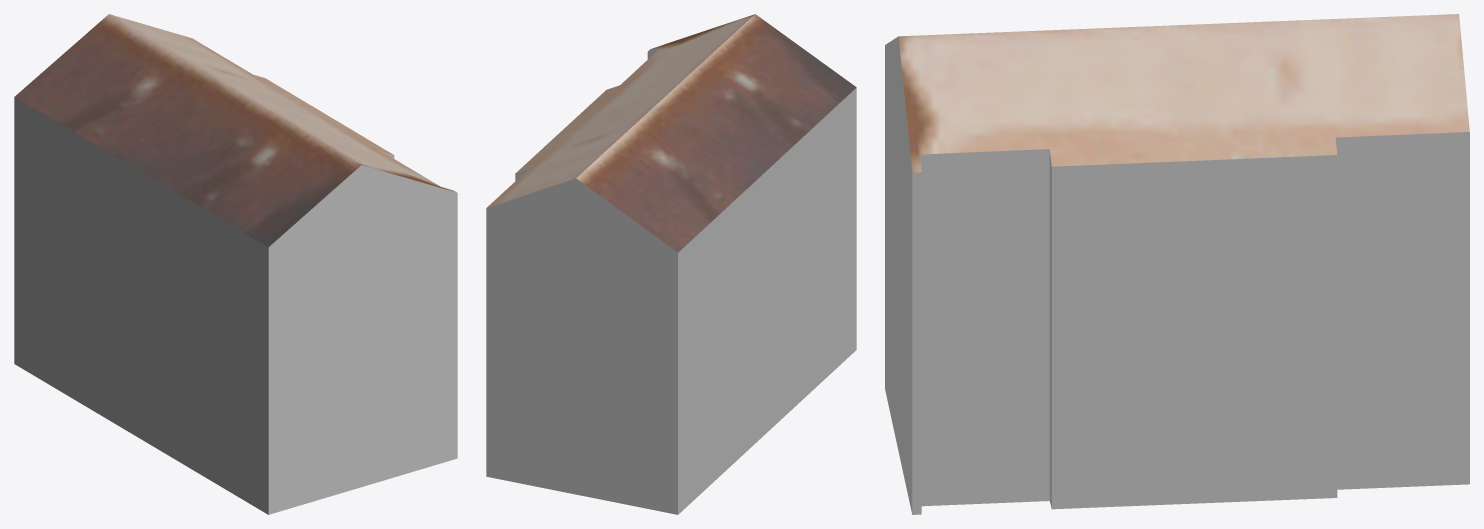
The model's file is DEBW_0010007Txiv.gltf.
3 renders of one model, left to right at view 1: azimuth 30°, elevation 25°; view 2: azimuth 150°, elevation 25°; view 3: azimuth 270°, elevation 25°, orthographic. The views are drawn at different scales.
Visible parts, largest first — view 1: Z_UP; view 2: Z_UP; view 3: Z_UP.
Part boxes in pixels (x1=…): Z_UP: x1=14, y1=14, x2=457, y2=514; Z_UP: x1=486, y1=14, x2=856, y2=514; Z_UP: x1=885, y1=14, x2=1469, y2=514.
Size of the model in its own units: 11.47 by 15.01 by 19.15.
2 materials, 1 textured.
